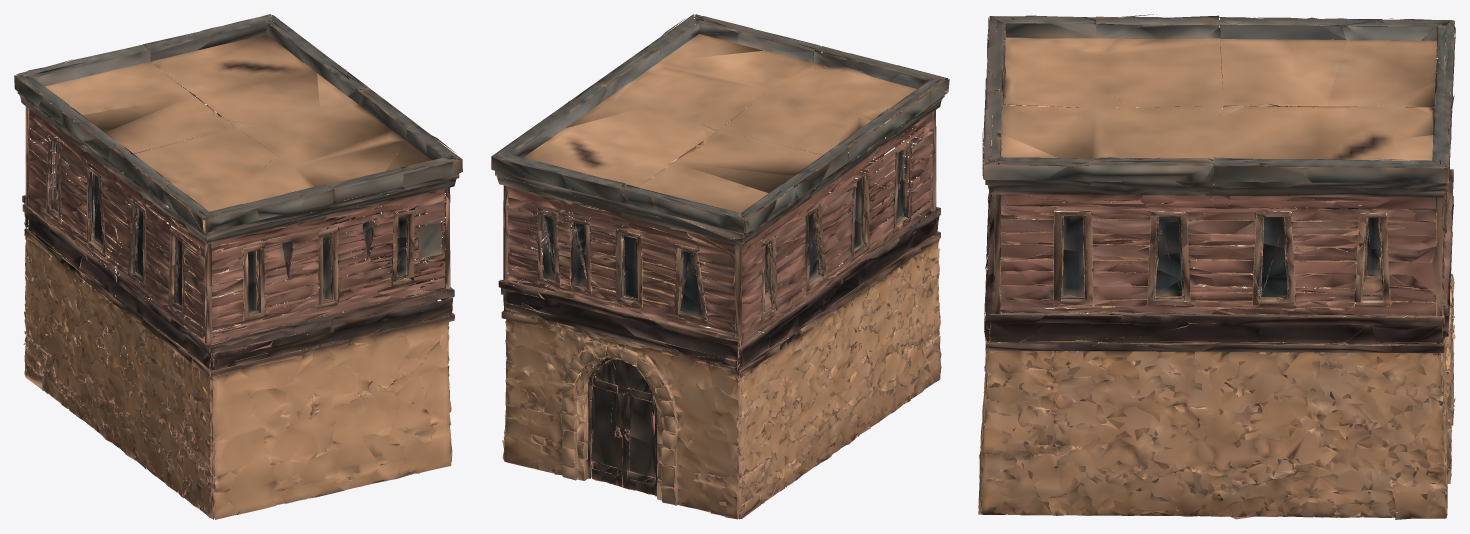
The model's file is bank.glb.
3 renders of one model, left to right at view 1: azimuth 30°, elevation 25°; view 2: azimuth 150°, elevation 25°; view 3: azimuth 270°, elevation 25°, orthographic. The views are drawn at different scales.
Parts seen in each view (by area): view 1: LO.001; view 2: LO.001; view 3: LO.001.
Boxes of the visible parts, x1,y1,x2,y2 form: LO.001: [14, 14, 462, 519]; LO.001: [491, 14, 949, 519]; LO.001: [978, 14, 1455, 519].
Size of the model in its own units: 1.45 by 1.61 by 1.92.
1 material, 1 textured.
